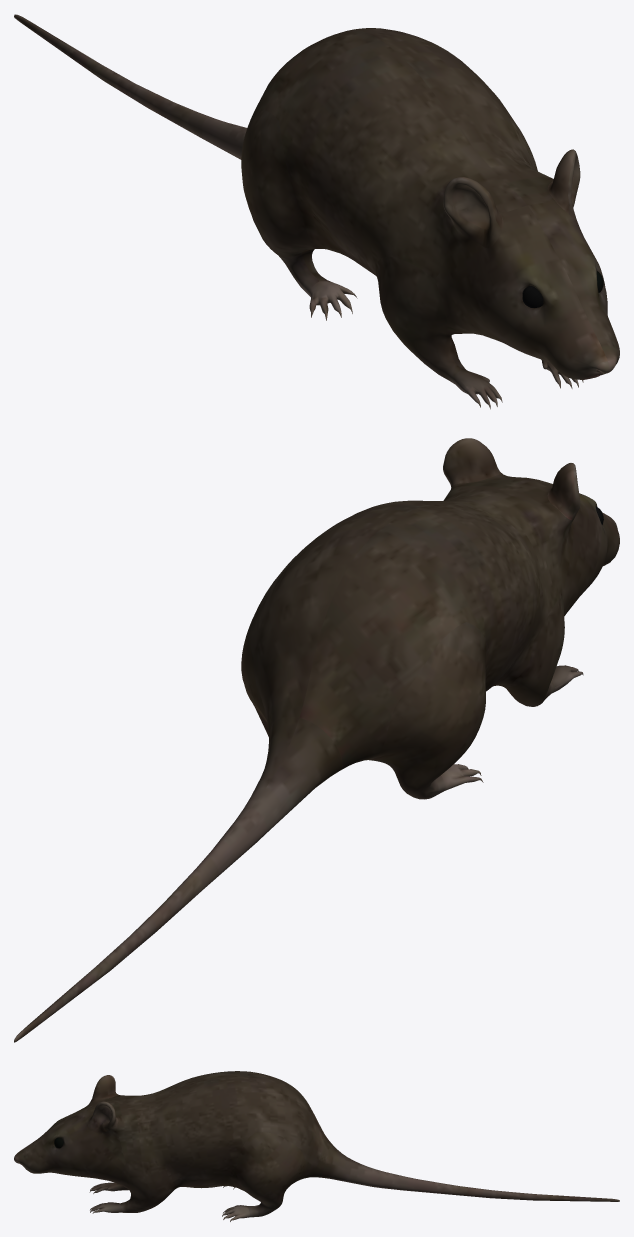
The model's file is street_rat.glb.
3 views of the same model, one above another, from view 1: azimuth 30°, elevation 25°; view 2: azimuth 150°, elevation 25°; view 3: azimuth 270°, elevation 25° (orthographic). The views are drawn at different scales.
Parts seen in each view (by area): view 1: street_rat; view 2: street_rat; view 3: street_rat.
Boxes of the visible parts, bbox=[...] form: street_rat: bbox=[14, 14, 619, 409]; street_rat: bbox=[14, 438, 619, 1042]; street_rat: bbox=[14, 1071, 619, 1221].
Size of the model in its own units: 0.032 by 0.0339 by 0.1483.
Materials: 1 (1 with a texture image).
